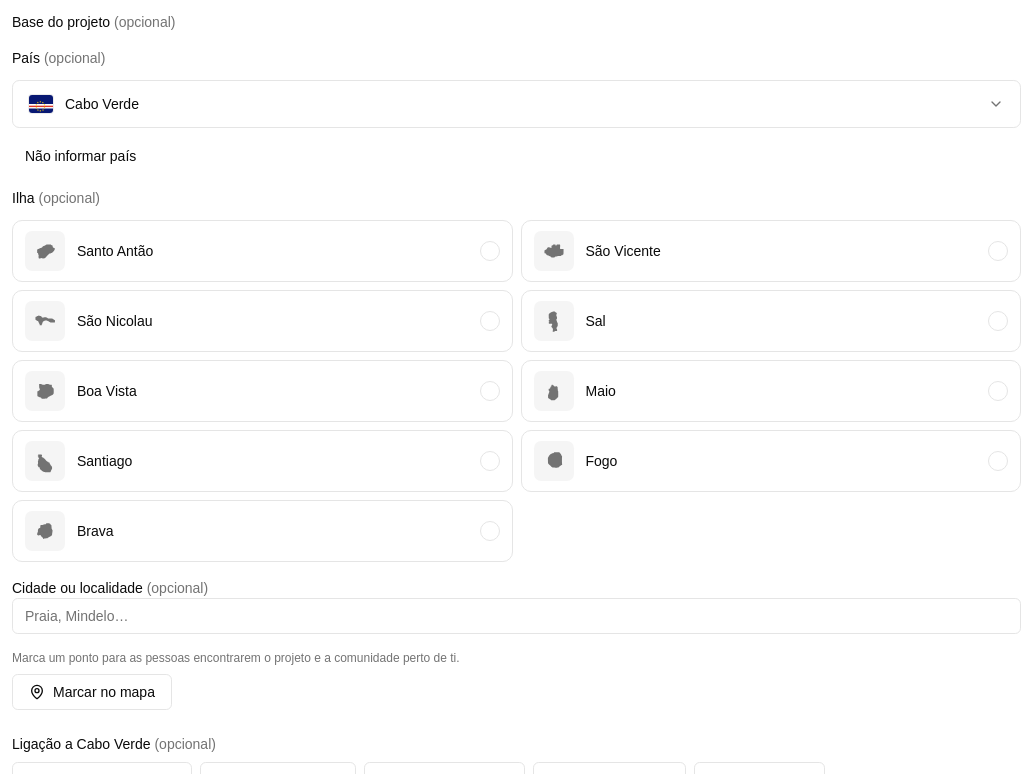
Test case: submission location choices › shows onboarding island cards for Cabo Verde with single selection
Later steps or results of the test are not shown.
Click the radio button labelled "Santo Antão". click: (45, 251)
box: [12, 220, 512, 282]
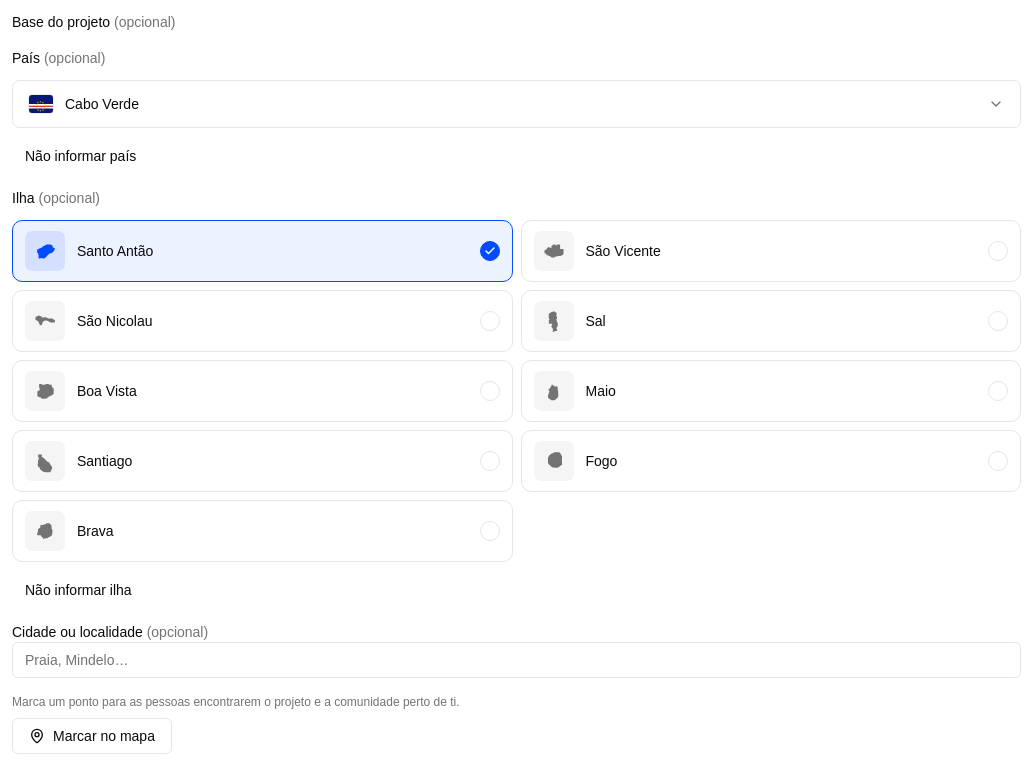
Expected: the radio button labelled "Santo Antão" is checked, [12, 220, 512, 282]
Click the radio button labelled "São Vicente". click: (554, 251)
box: [520, 220, 1021, 282]
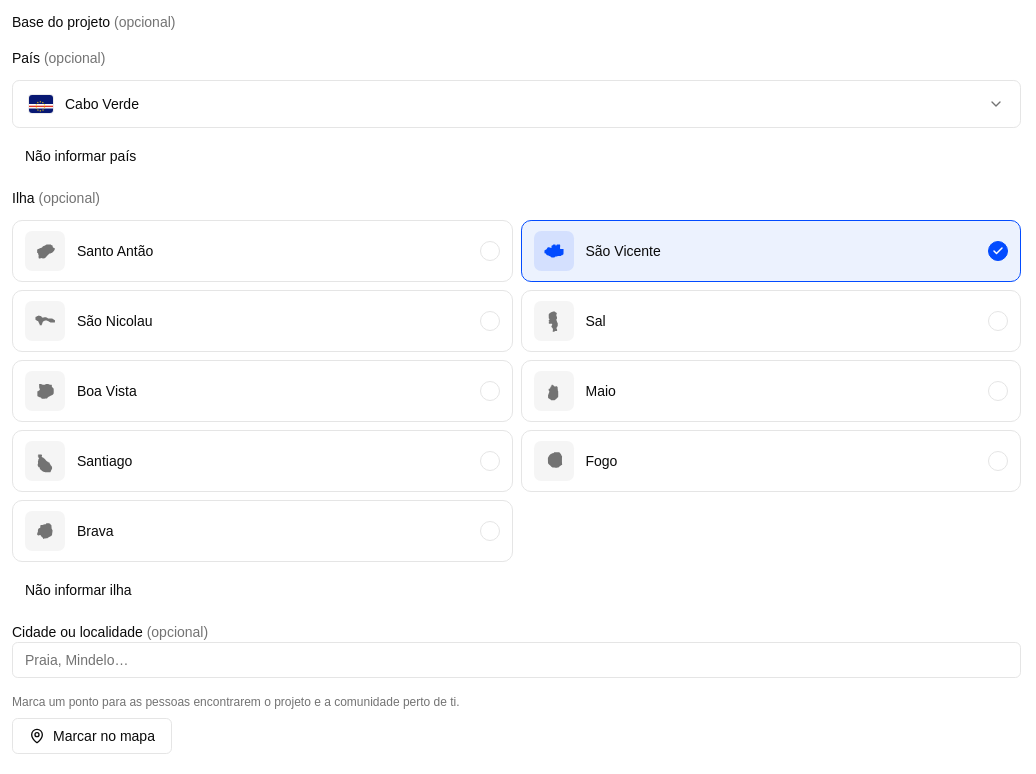
Expected: the radio button labelled "Santo Antão" is not checked, [12, 220, 512, 282]
Expected: the radio button labelled "São Vicente" is checked, [520, 220, 1021, 282]
